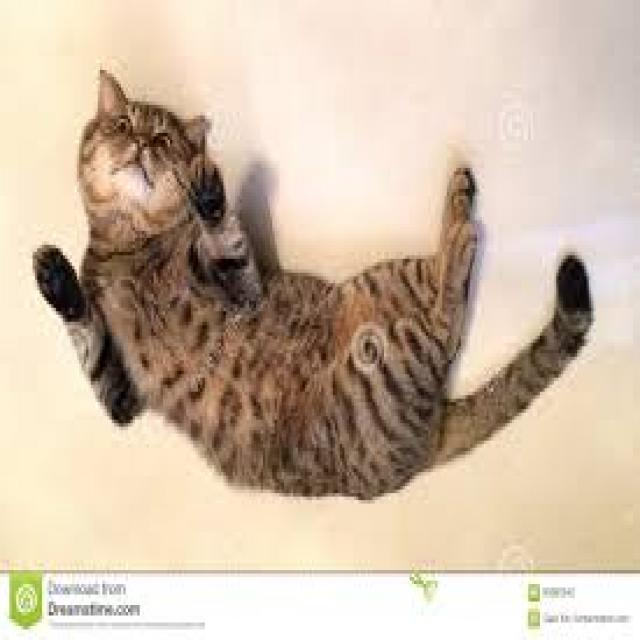cat: (30, 49, 603, 508)
